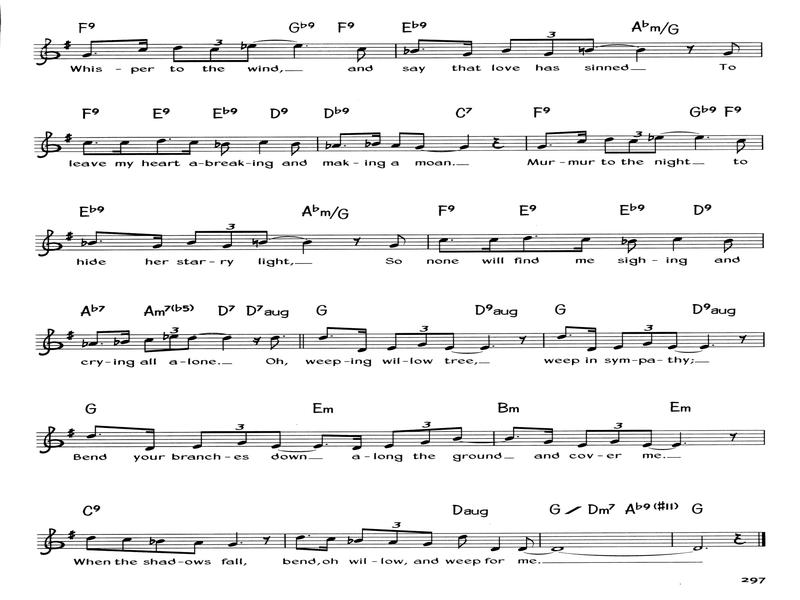B: (692, 535, 704, 553)
Bem: (112, 338, 121, 349), (346, 535, 354, 546), (148, 537, 156, 546), (620, 236, 627, 246), (80, 238, 87, 248), (81, 339, 88, 349)
C: (573, 427, 595, 449), (386, 231, 410, 250), (610, 328, 629, 352), (724, 37, 744, 59), (385, 331, 402, 354), (517, 532, 536, 552), (191, 429, 208, 451), (536, 129, 553, 150), (418, 529, 436, 548), (443, 331, 457, 353), (413, 334, 431, 351), (85, 423, 102, 441), (355, 527, 373, 544), (188, 538, 205, 556), (187, 229, 202, 249), (383, 429, 398, 449), (312, 432, 329, 449), (642, 427, 655, 449), (391, 130, 406, 149), (453, 531, 468, 550), (501, 37, 516, 56), (88, 328, 102, 348), (418, 429, 434, 446), (384, 531, 401, 547), (449, 425, 464, 443), (83, 535, 98, 553), (221, 231, 235, 250), (557, 323, 571, 342), (270, 430, 284, 449), (519, 235, 532, 255), (667, 331, 680, 351), (237, 431, 253, 447), (503, 426, 519, 442), (288, 140, 303, 157), (88, 230, 103, 247), (119, 537, 134, 554), (152, 137, 165, 156), (602, 133, 613, 155), (206, 48, 221, 64), (294, 534, 306, 554), (245, 45, 258, 63), (220, 140, 233, 158), (722, 237, 735, 255), (414, 131, 425, 152), (82, 39, 94, 58), (626, 138, 638, 157), (318, 325, 332, 341), (653, 134, 664, 154), (169, 334, 179, 354), (332, 131, 343, 149), (270, 336, 282, 352), (143, 337, 153, 356), (438, 236, 448, 255), (735, 137, 746, 154), (629, 238, 639, 256), (587, 35, 596, 55), (610, 430, 621, 446), (170, 44, 179, 63), (355, 46, 365, 63), (185, 336, 196, 351), (411, 38, 421, 54), (156, 538, 166, 554), (544, 39, 553, 56), (259, 230, 268, 246), (83, 139, 91, 156), (645, 332, 654, 347)
CS: (34, 423, 65, 457), (38, 228, 63, 264), (34, 34, 62, 66), (36, 328, 64, 360), (36, 130, 62, 163), (39, 526, 64, 559)
N: (254, 134, 272, 156), (488, 533, 506, 553), (666, 234, 684, 253), (224, 528, 239, 549), (459, 132, 474, 151), (291, 41, 303, 61), (219, 335, 233, 352), (671, 429, 683, 448), (698, 333, 711, 350), (693, 133, 704, 153), (300, 239, 312, 257), (481, 331, 491, 352), (636, 47, 646, 65)
R: (550, 545, 567, 552)
SC: (478, 232, 500, 255), (355, 323, 369, 354), (586, 324, 600, 353), (183, 136, 200, 158), (113, 136, 130, 157), (152, 228, 165, 255), (321, 531, 336, 554), (575, 234, 592, 254), (146, 424, 157, 452), (351, 431, 364, 452), (543, 426, 556, 447), (135, 37, 151, 54), (461, 36, 473, 58), (577, 128, 590, 147), (372, 128, 383, 149), (122, 328, 131, 345)
SN: (349, 235, 364, 248), (738, 332, 749, 346), (685, 43, 697, 55), (517, 334, 529, 346), (729, 430, 739, 444), (260, 535, 272, 546), (252, 335, 262, 348)
SOS: (67, 527, 77, 544), (64, 37, 73, 54), (65, 229, 75, 242), (65, 331, 77, 341), (251, 236, 259, 248), (64, 134, 73, 144), (67, 431, 75, 439)
